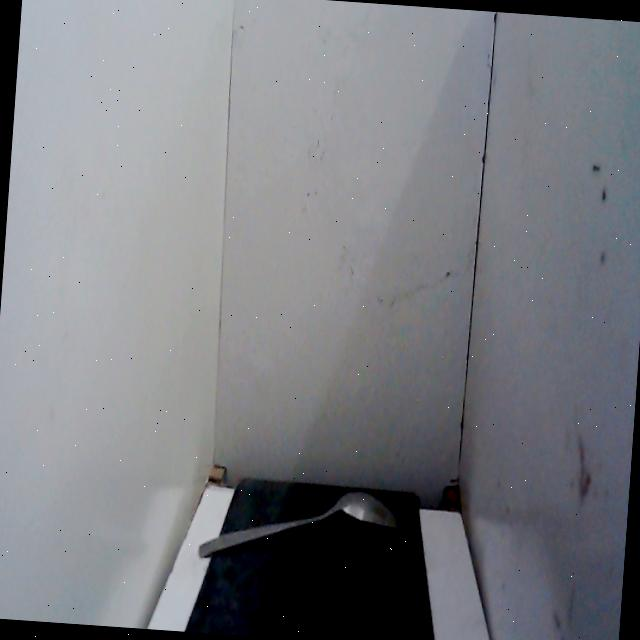metal: (188, 454, 415, 600)
